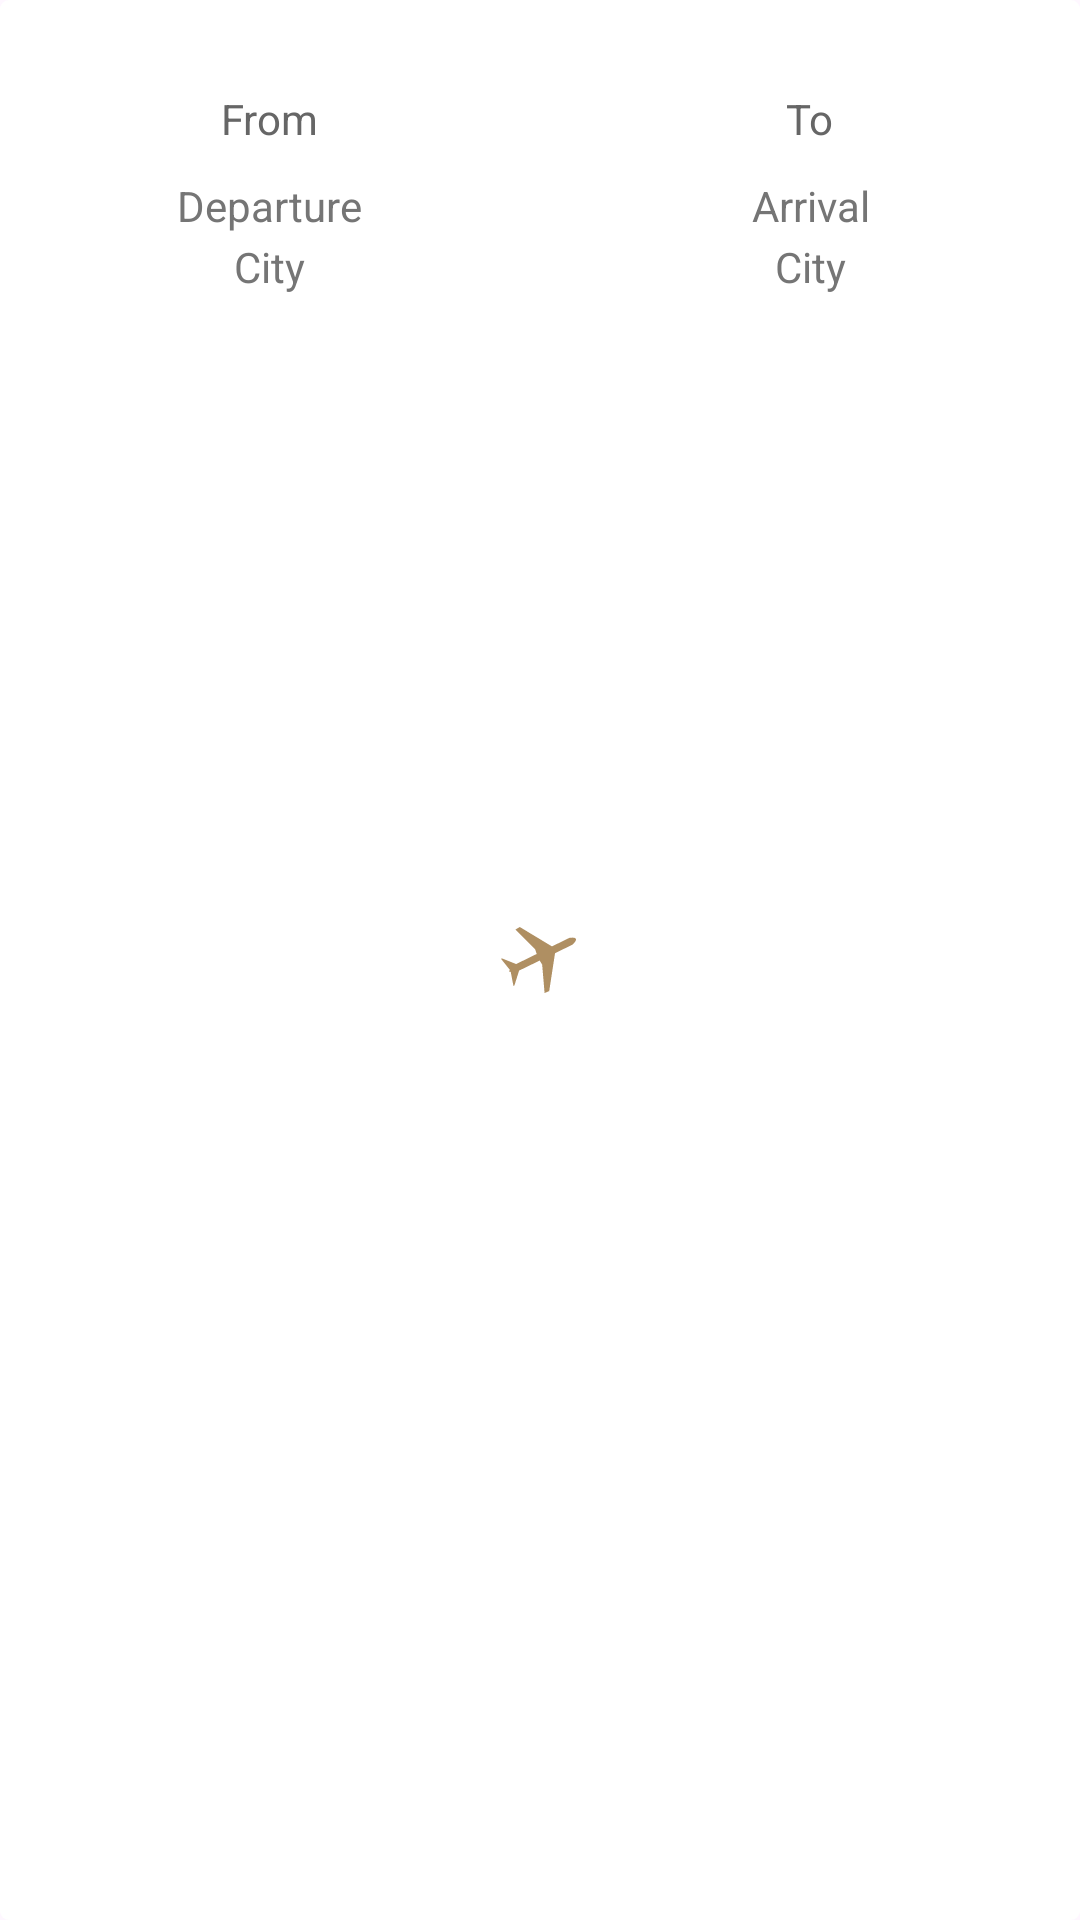

Where icons sit on this 1080×1920 app screen, as box=[x1, y1, x2, y2]:
plane gold: box=[501, 927, 576, 993]
